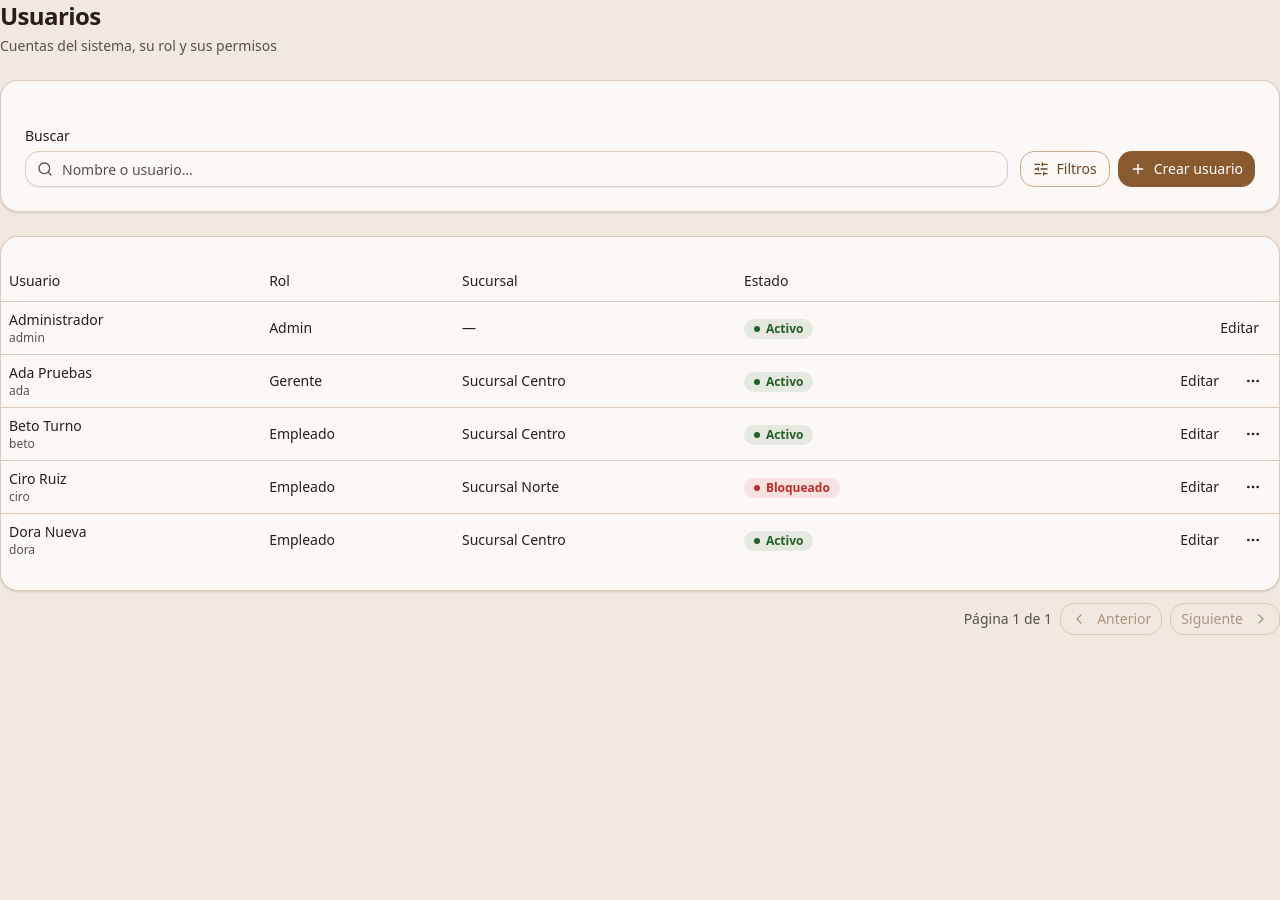
Test: Permisos de un usuario › muestra un permiso revocado y permite restablecerlo
Check: the text "Beto Turno" is shown, box [9,416,82,434]
Click the button named "Más acciones" in the row of "Beto Turno" at (1253,434), box [1235,416,1271,452]
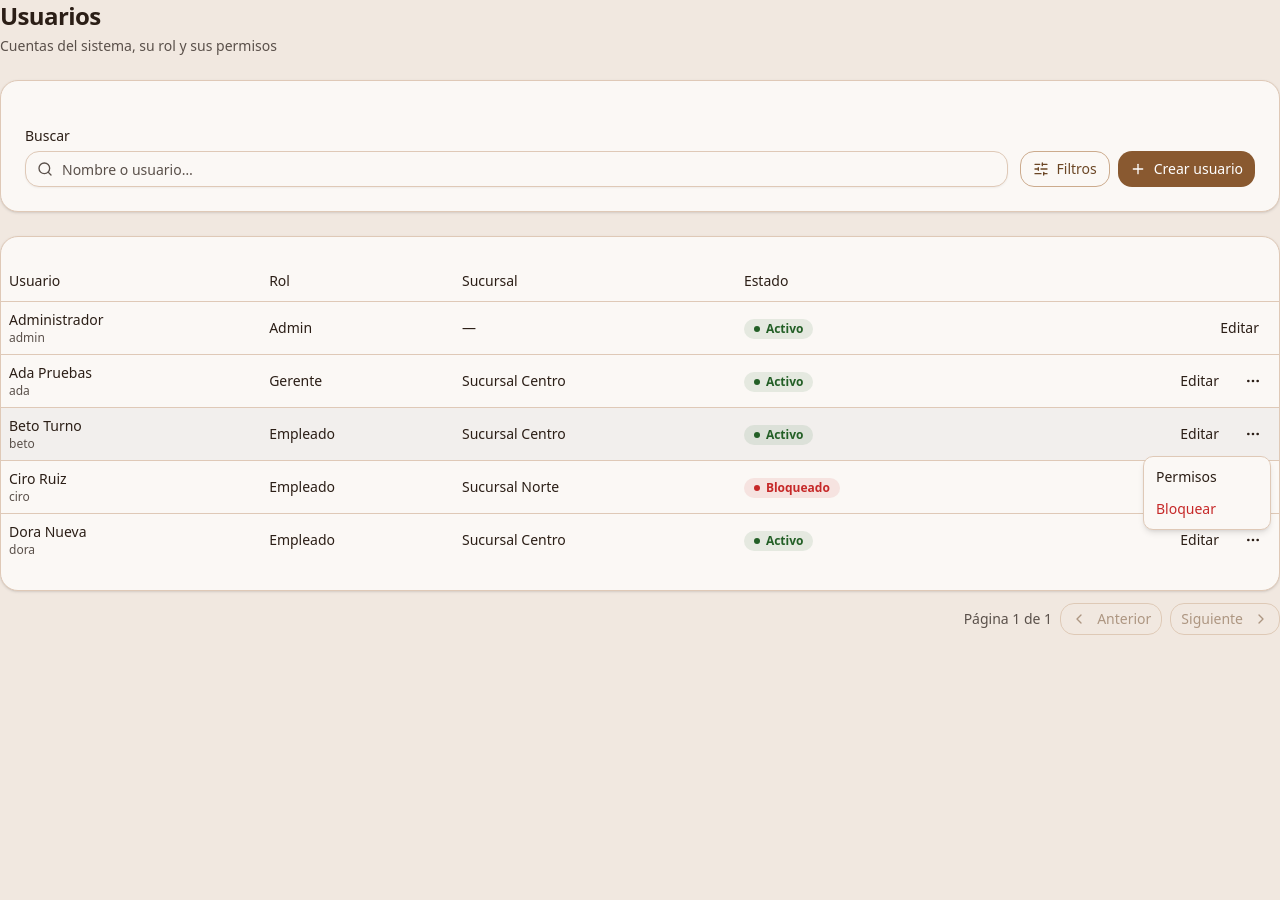
Click the menu item "Permisos" at (1186,476), box [1156,467,1217,486]
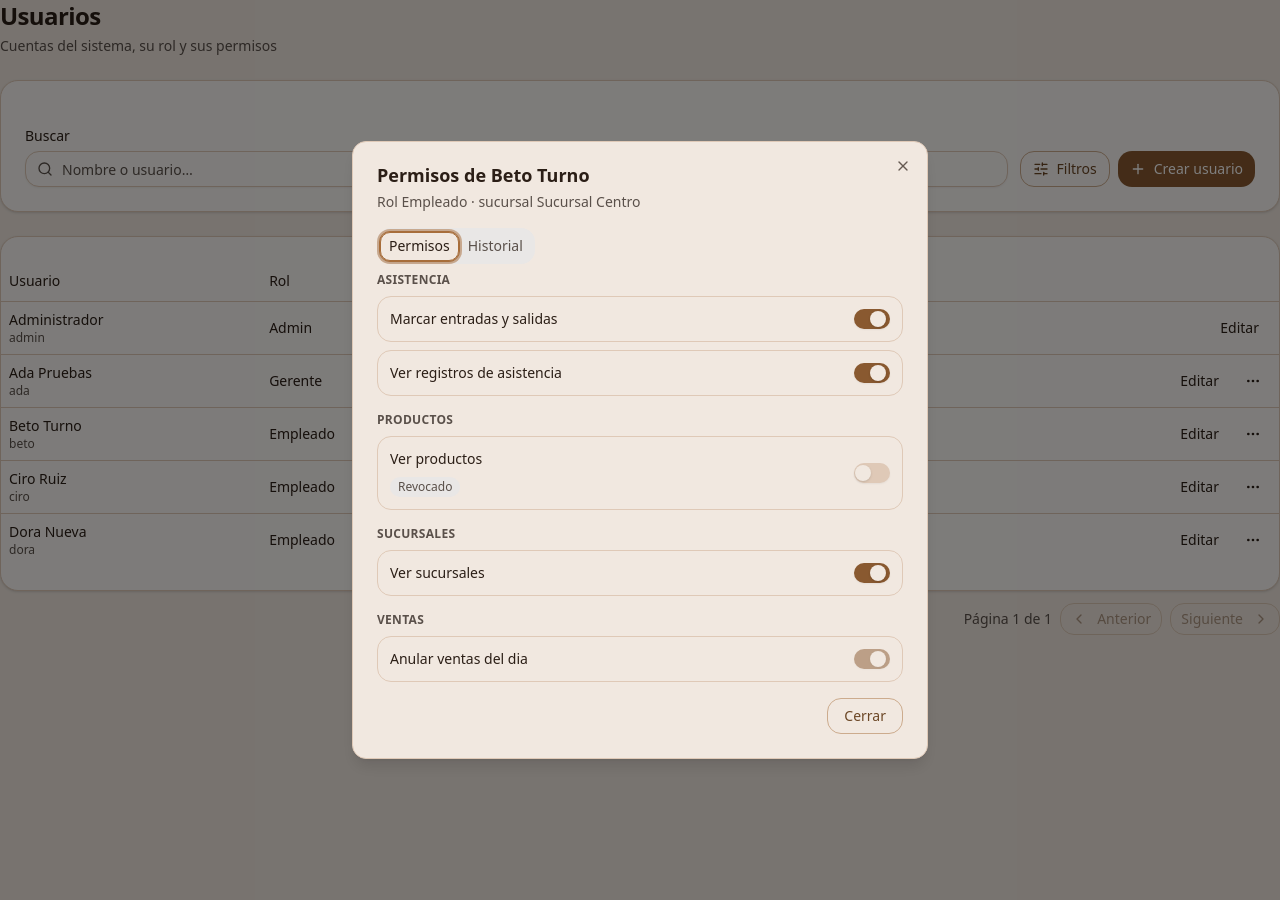
Check: the text "Ver productos" is shown, box [390,449,482,469]
Check: the text "Revocado" is shown, box [390,477,460,497]
Check: the switch named "Ver productos" is enabled
Click the switch named "Ver productos" at (872,473), box [854,463,890,483]
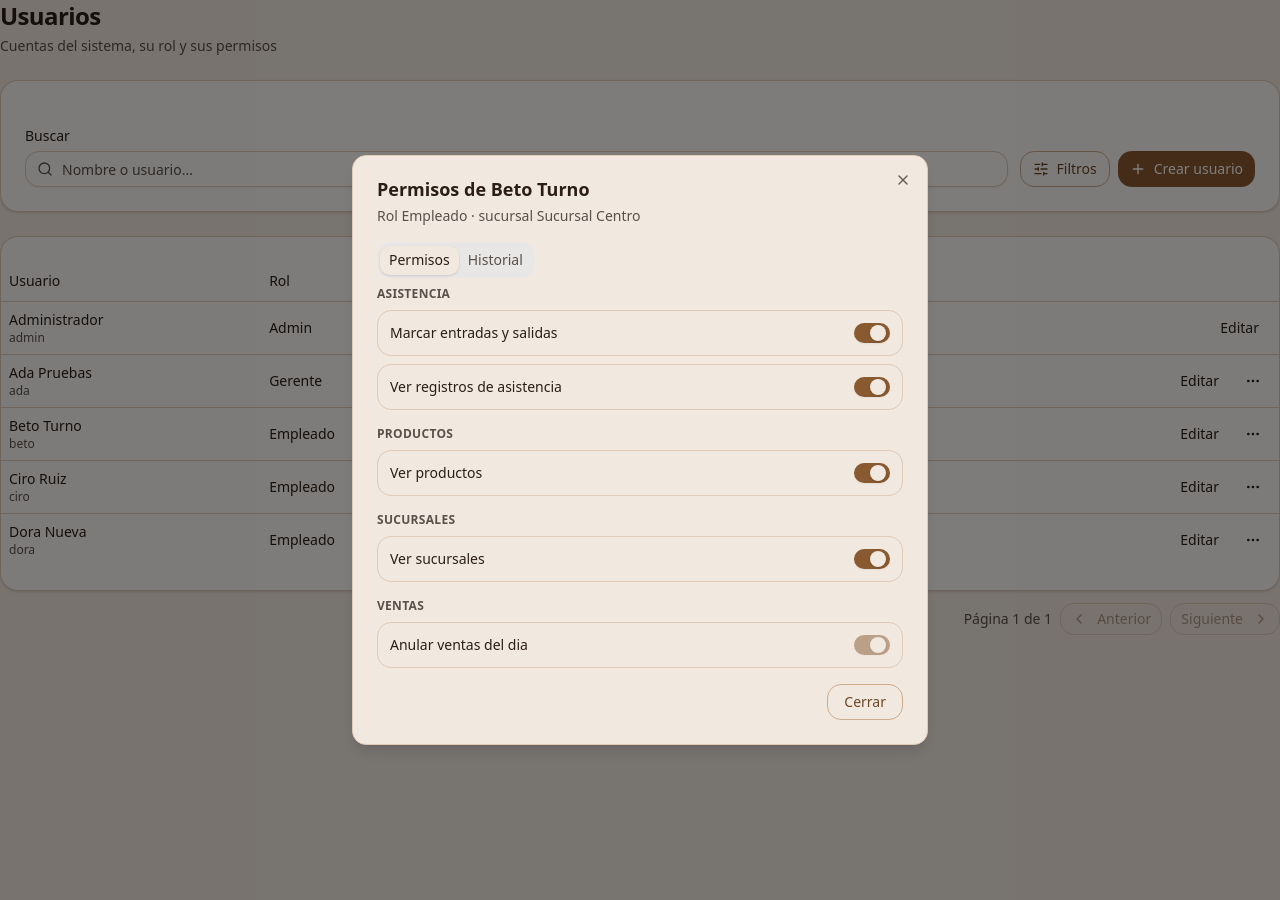
Check: the text "Revocado" is gone
